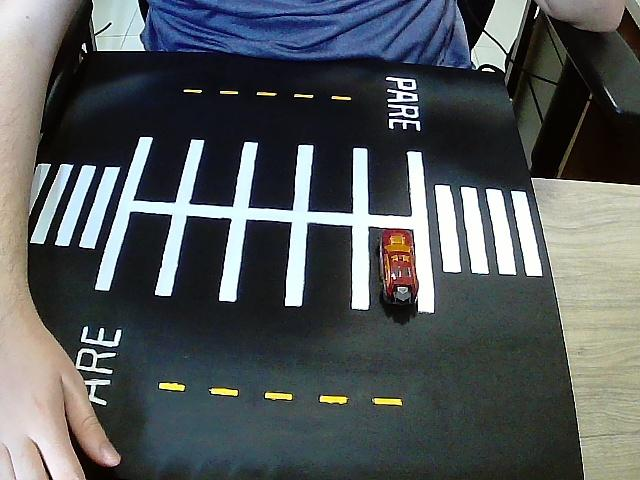Carro: (380, 229, 419, 307)
